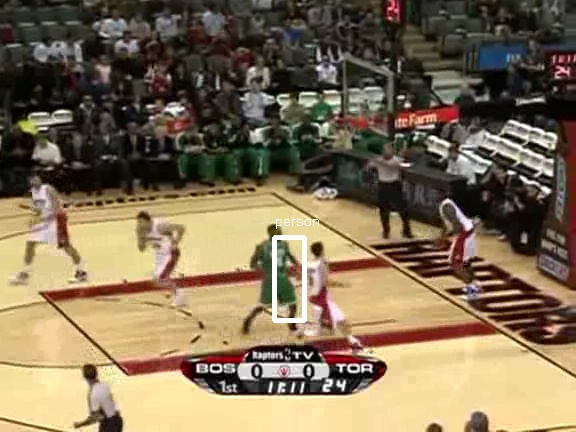person: (263, 231, 297, 312), (262, 231, 296, 312), (264, 231, 298, 312), (263, 230, 297, 311), (263, 232, 297, 313)
target_negative: (20, 258, 205, 327), (19, 36, 120, 158), (20, 252, 521, 264), (332, 209, 474, 220), (410, 392, 462, 419), (16, 345, 45, 379)
